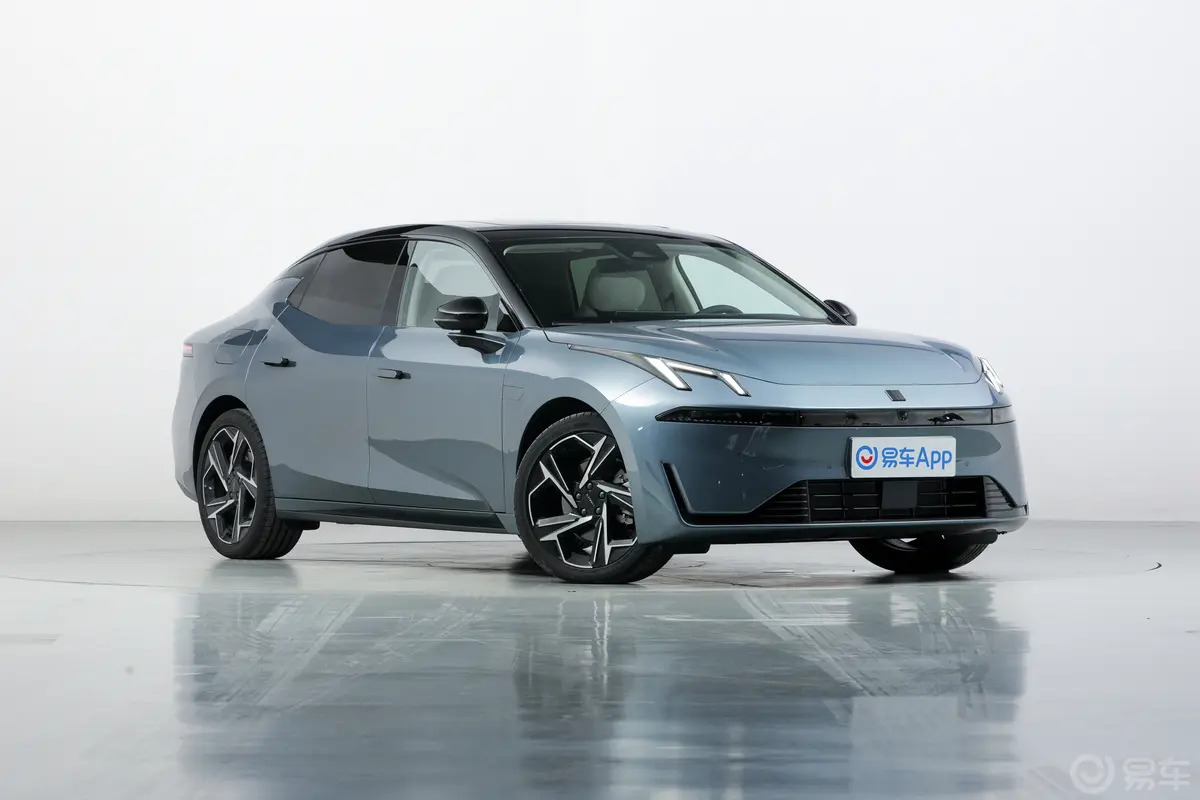LINK&CO: (885, 390, 906, 402)
